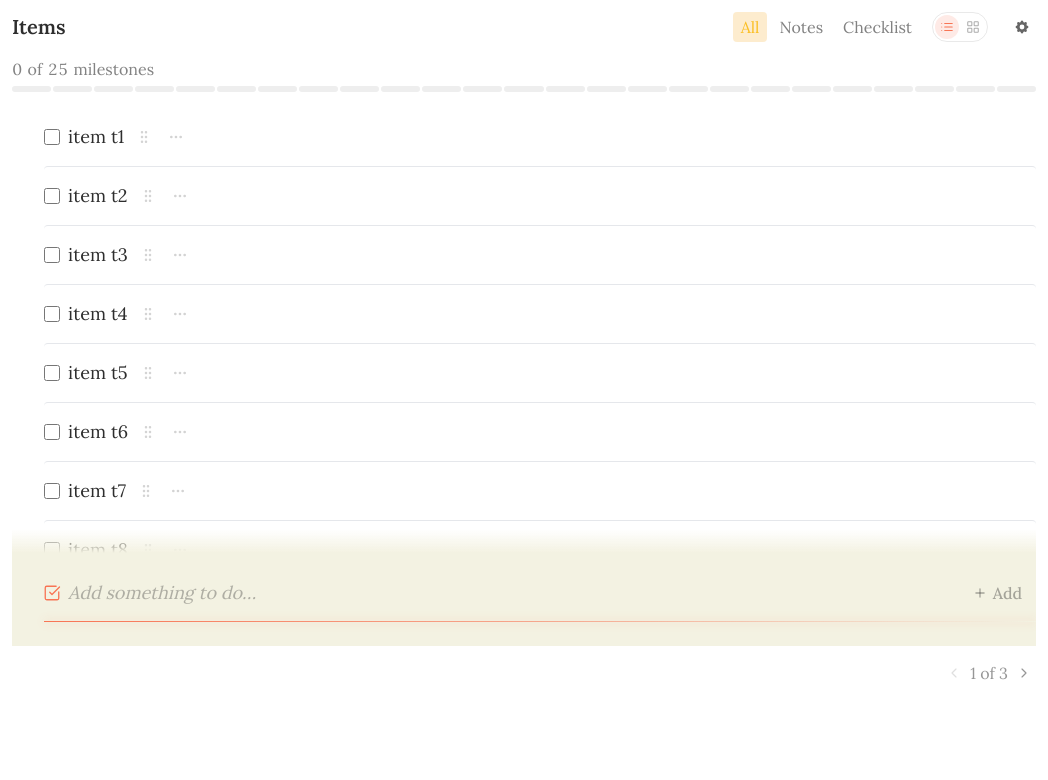
Scenario: Todo add bar over a paged list (FS-0008 R15–R18) › should go back to the family the child joins when it is on another page
Check: the text "item t1" is shown, box [68,124,124,150]
Note: Nested on page 1, then paged away before anything is typed.
Press Tab in the field labelled "Add something to do…", box [68,577,947,609]
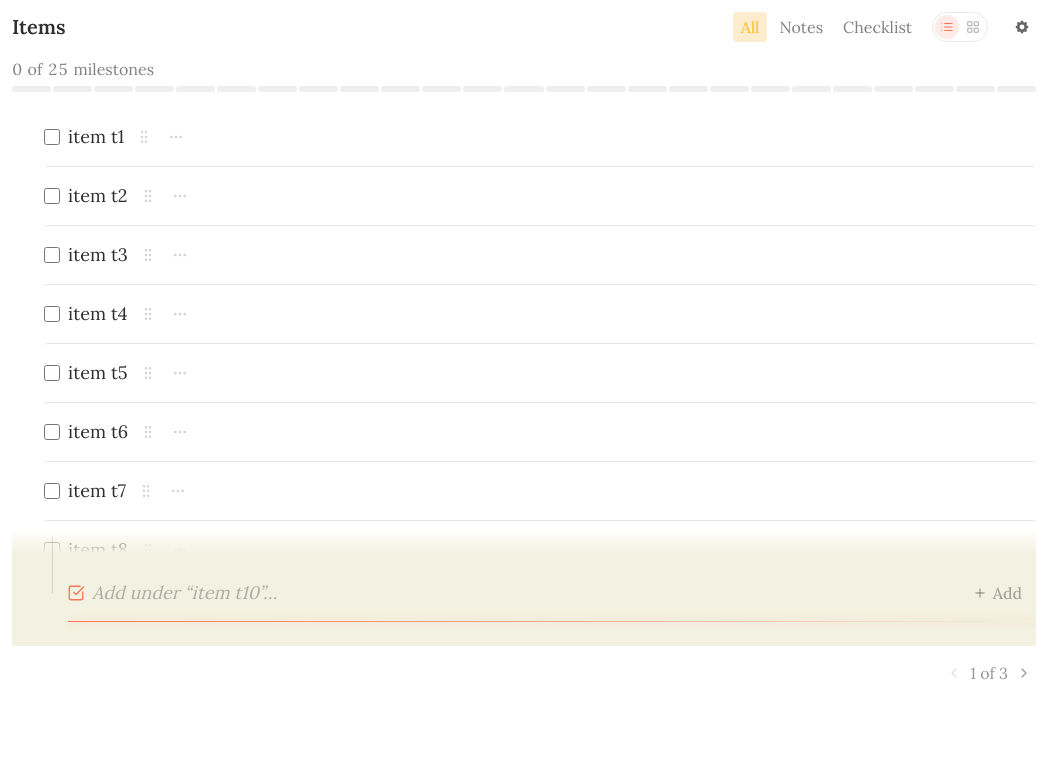
Click the button named "Next page" at (1024, 673), box [1016,665,1032,681]
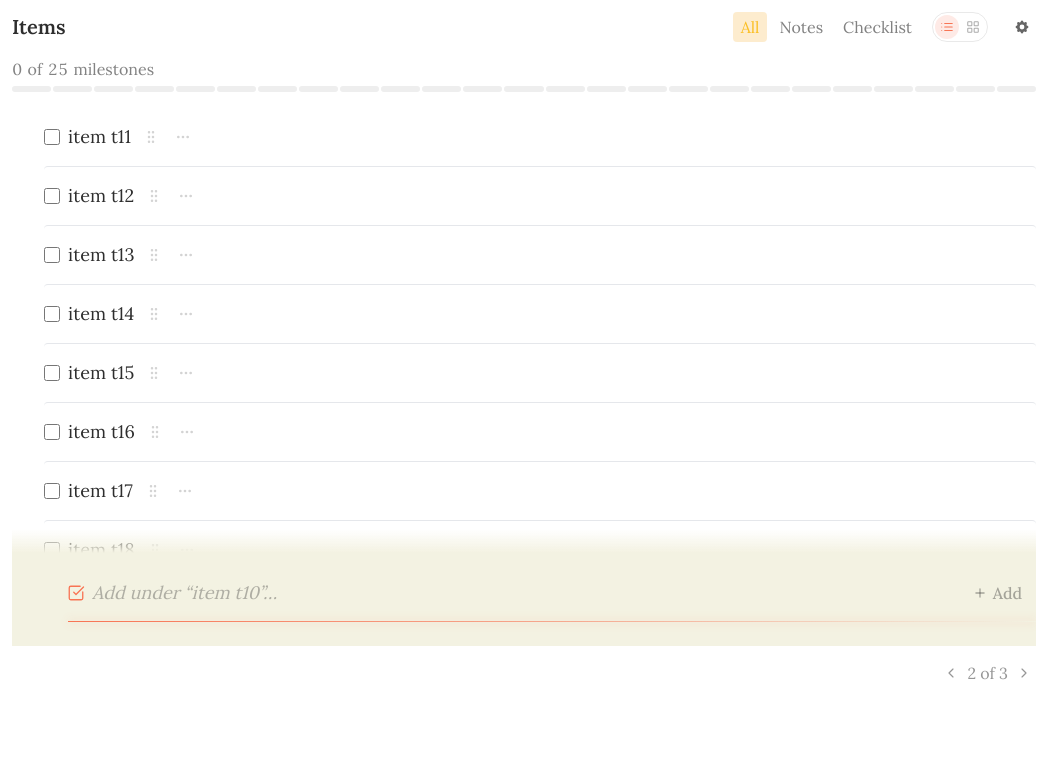
Click the button named "Next page" at (1024, 673), box [1016,665,1032,681]
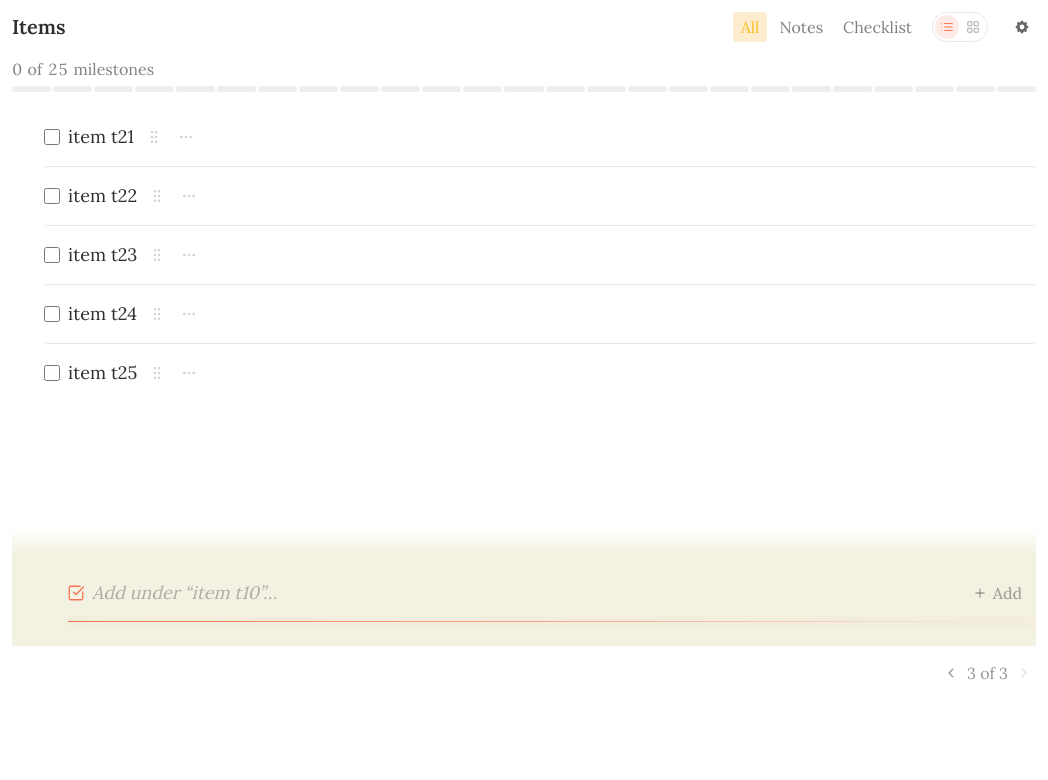
Check: the text with test id "page-counter" reads "3 of 3", box [967,662,1008,684]
Type "item C" into the field labelled "Add under “item t10”…" at (519, 593), box [92,577,947,609]
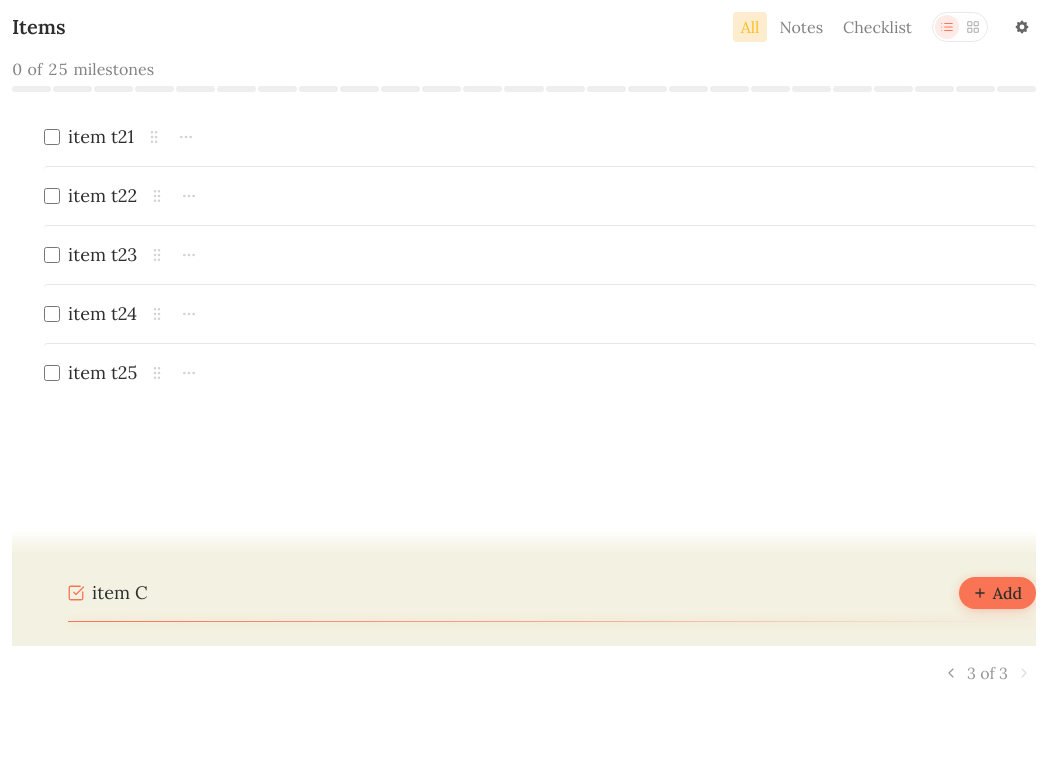
Submit the form "Add", box [60,577,1036,609]
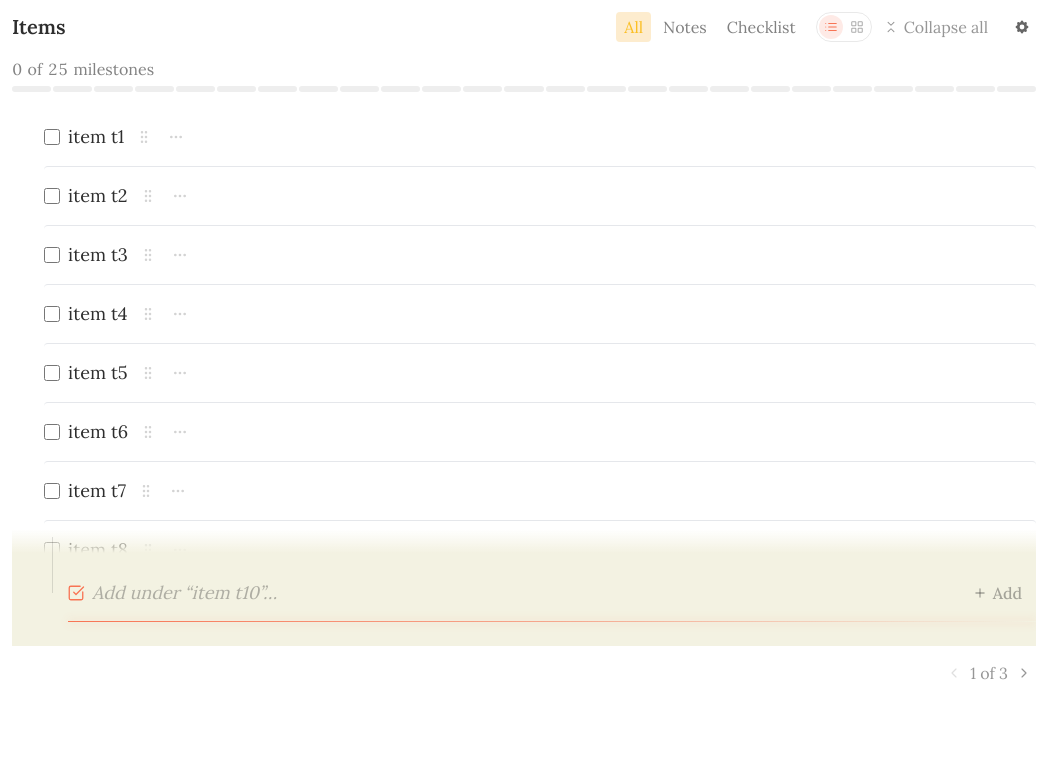
Check: the text with test id "page-counter" reads "1 of 3", box [970,662,1008,684]
